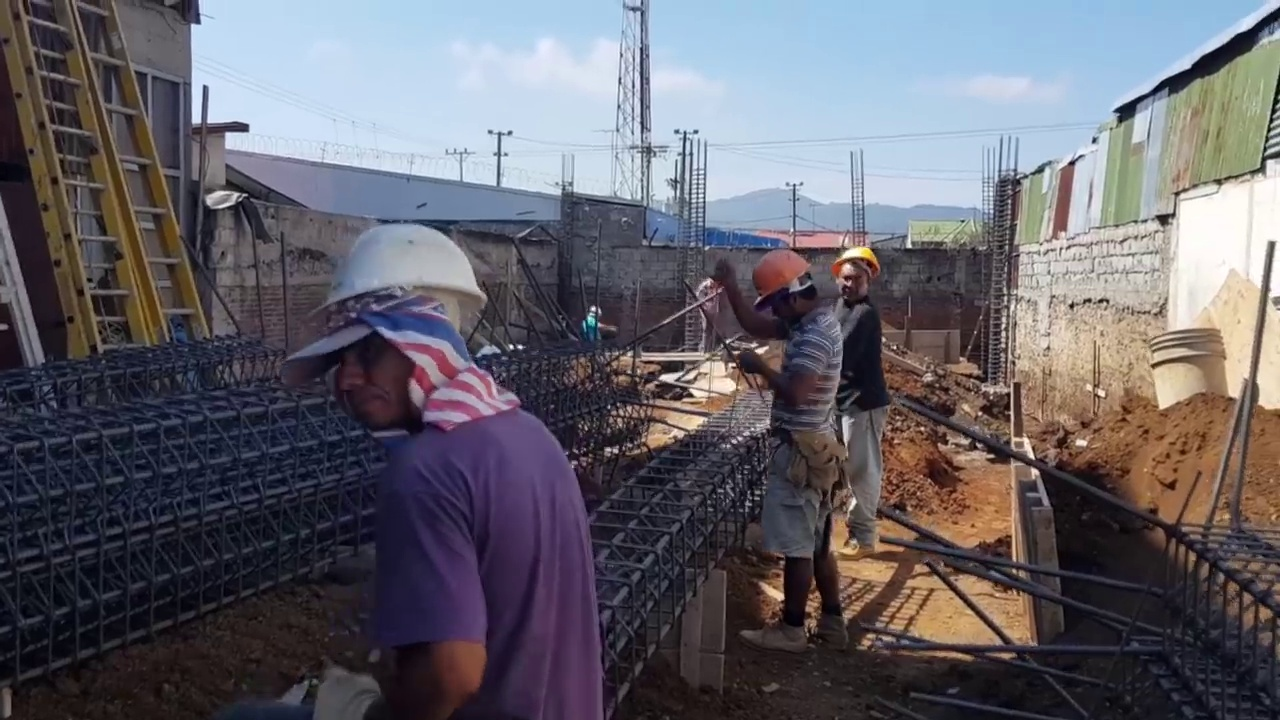helmet: (312, 230, 486, 320), (835, 243, 878, 280), (590, 307, 603, 316)
helmet-off: (706, 272, 721, 284)
helmet-on: (307, 224, 494, 440), (749, 254, 820, 324), (837, 245, 882, 303), (587, 306, 603, 321)
person: (301, 209, 586, 720), (708, 255, 843, 657), (833, 243, 893, 545), (699, 269, 723, 356), (581, 308, 610, 344)
